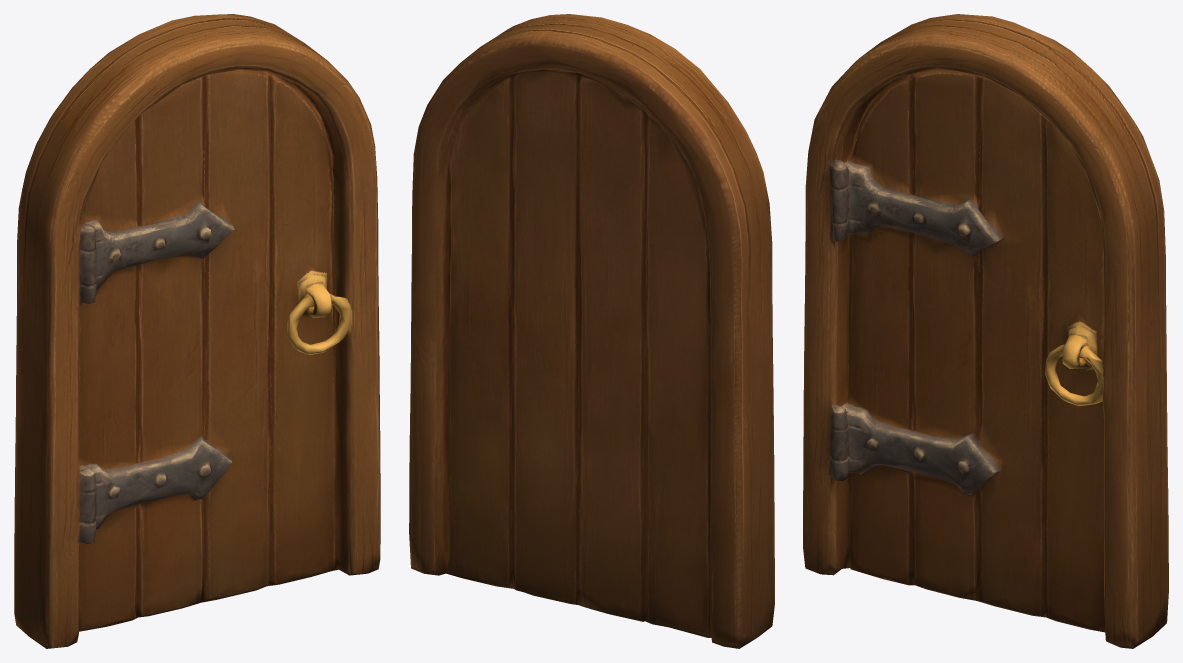
Rendered from house_door.glb.
3 renders of one model, left to right at view 1: azimuth 30°, elevation 25°; view 2: azimuth 150°, elevation 25°; view 3: azimuth 330°, elevation 25°, orthographic.
Bounding box in the file's own units: 0.6161 × 0.9996 × 0.1367.
Materials: 1 (1 with a texture image).
